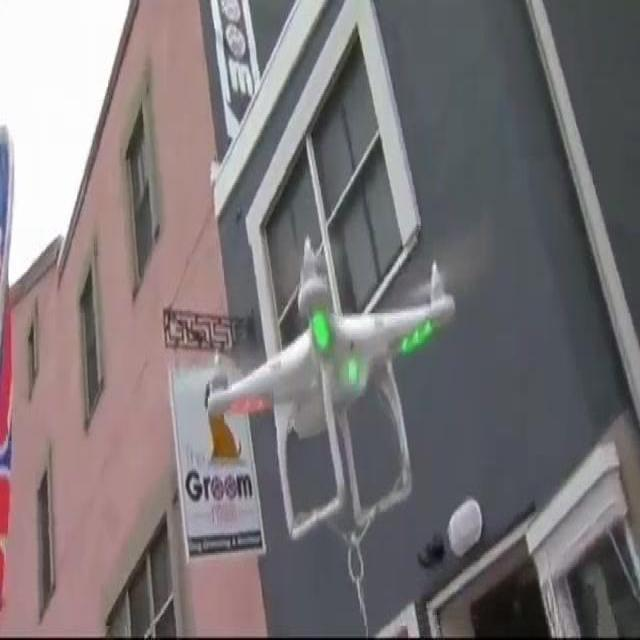UAV: (207, 237, 456, 542)
